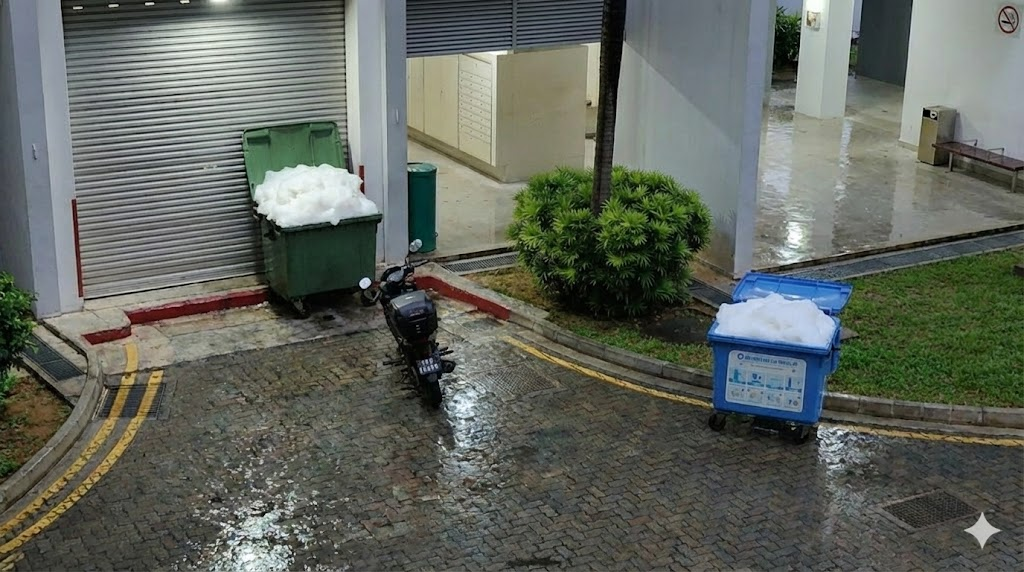bin_empty: (408, 163, 436, 251), (919, 105, 955, 165)
bin_full: (242, 122, 382, 313), (708, 271, 852, 439)
vehicle: (360, 239, 456, 405)
